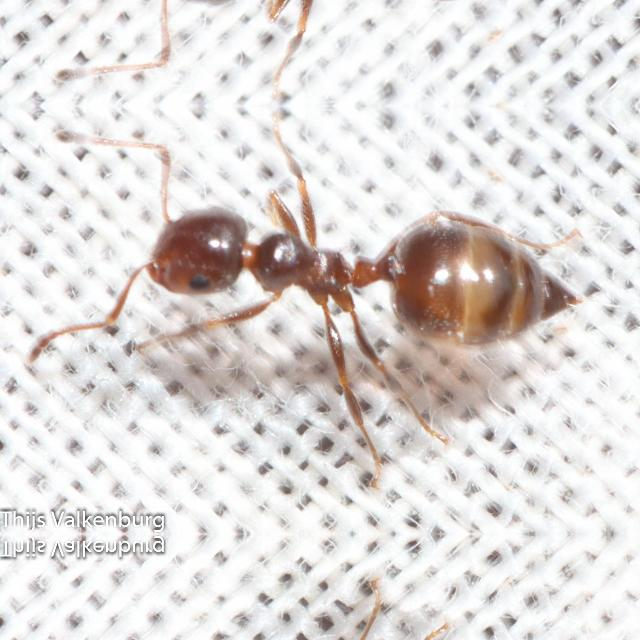Crematogaster: (93, 167, 584, 373), (93, 0, 584, 43)
